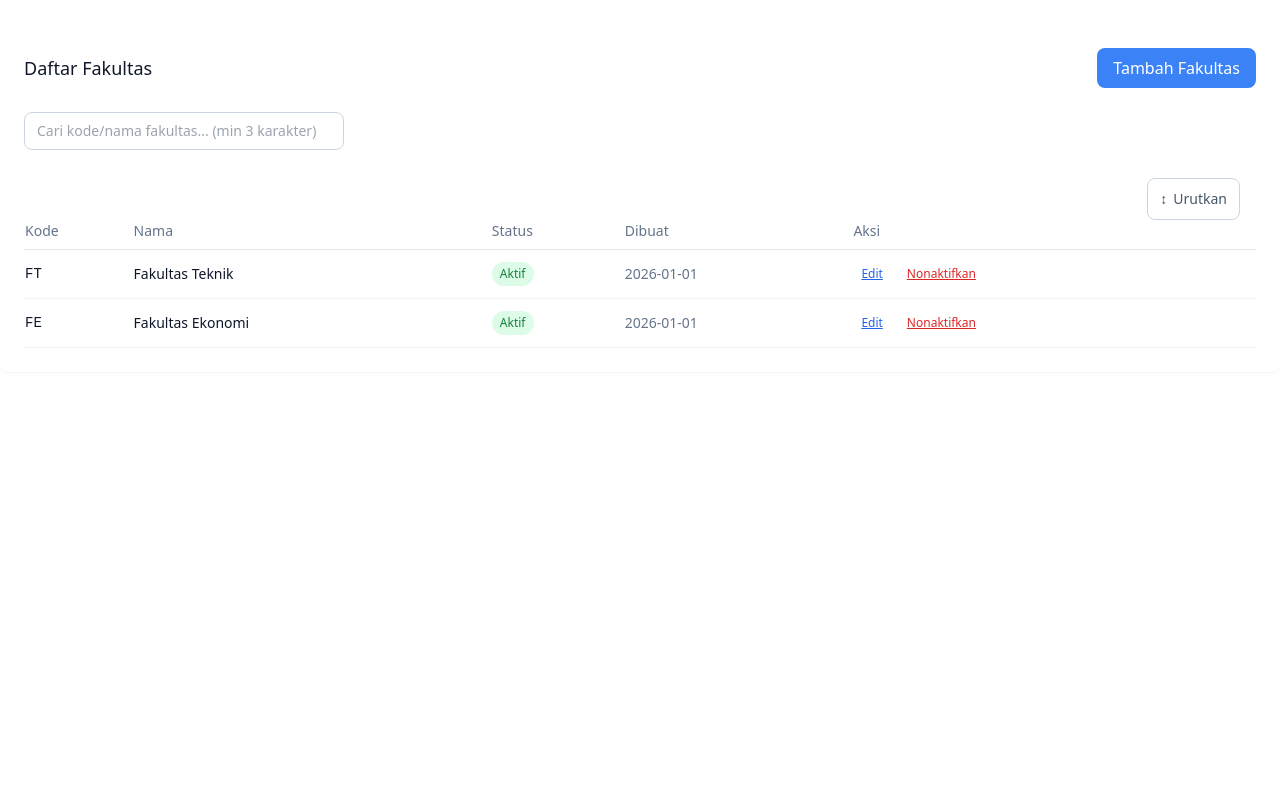
Scenario: AdminMasterPage (Fakultas & Prodi) › edit fakultas → updateFaculty dipanggil
The image size is (1280, 800).
Check: the text "Fakultas Teknik" is shown, box x1=133 y1=250 x2=491 y2=298
Klik Edit pada fakultas pertama
Click the button "Edit" in the row of "Fakultas Teknik".
click(872, 274)  # box x1=853 y1=262 x2=891 y2=286
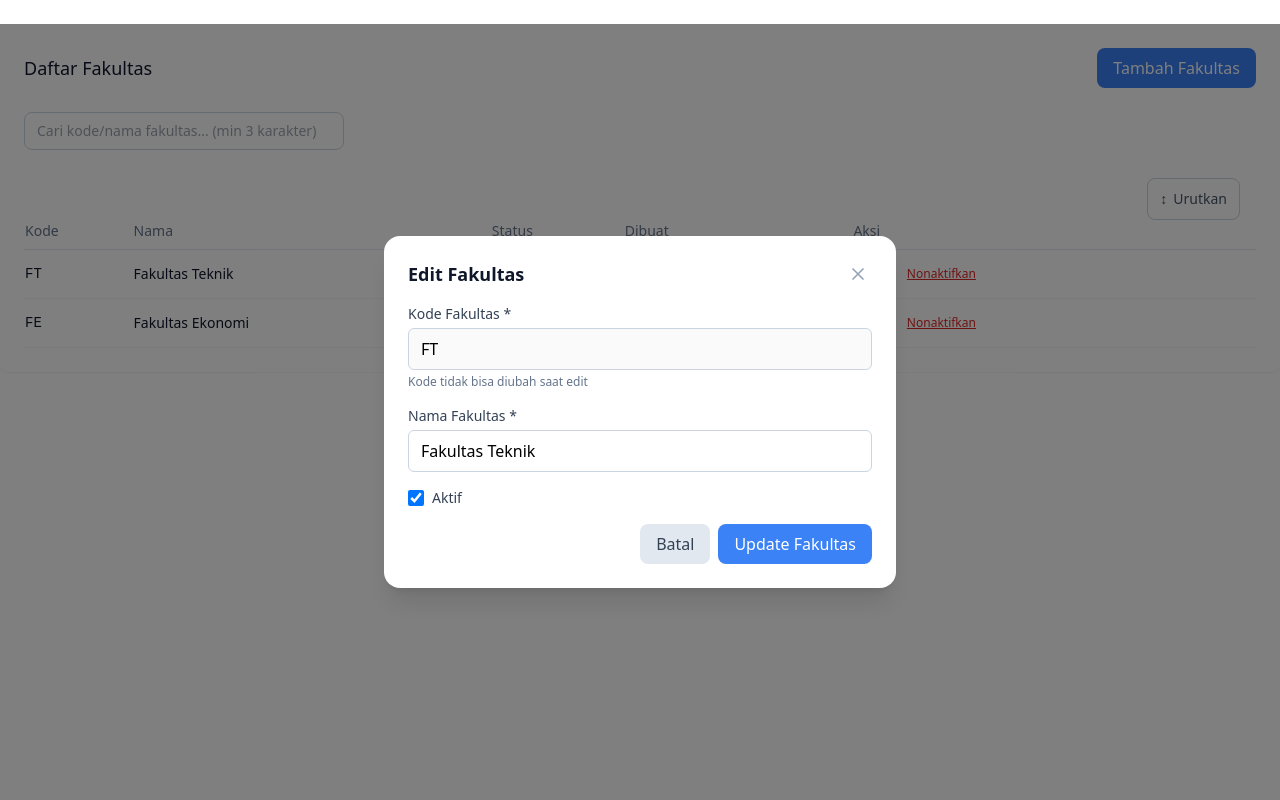
Check: the field showing "Fakultas Teknik" is shown
Ubah nama
Replace the text in the field labelled "Nama Fakultas *" with "Fakultas Teknik Baru" at (640, 451), box x1=408 y1=430 x2=872 y2=472
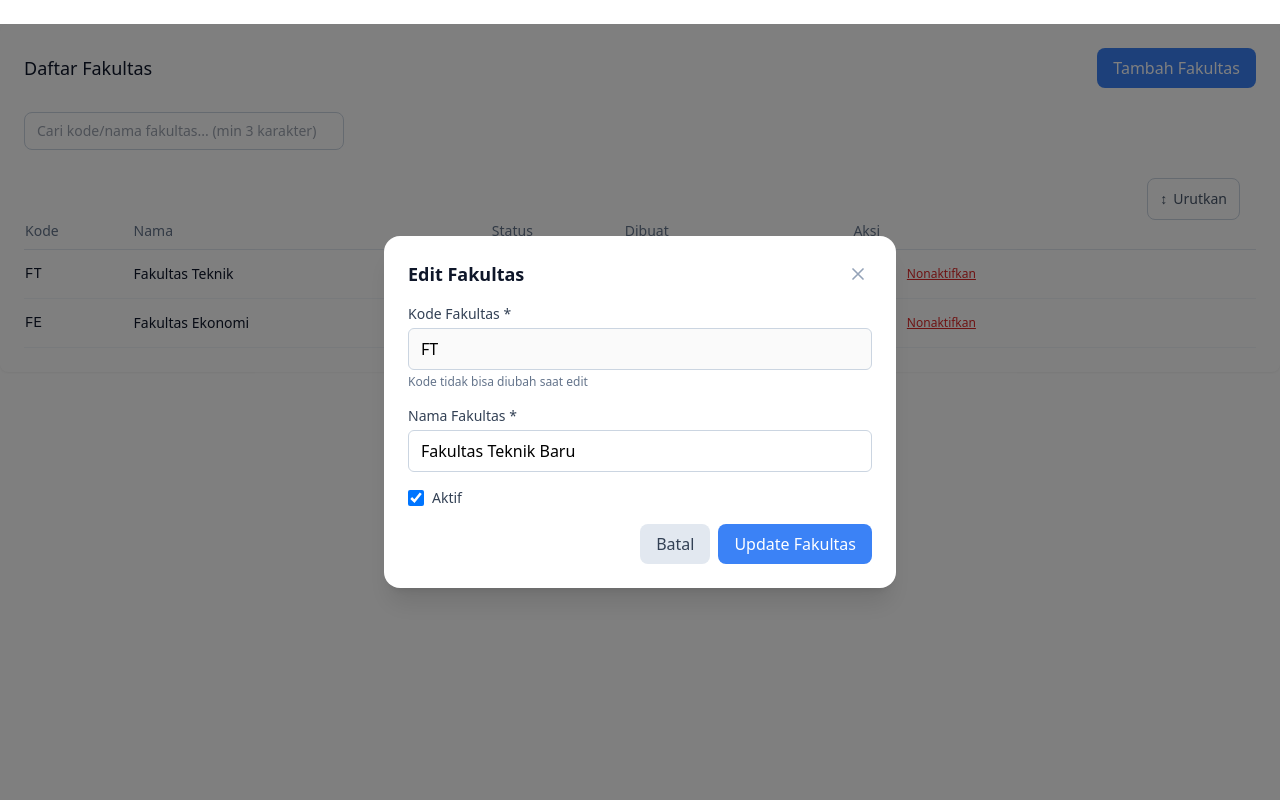
Click the button "Update Fakultas".
click(795, 544)  # box x1=718 y1=524 x2=872 y2=564
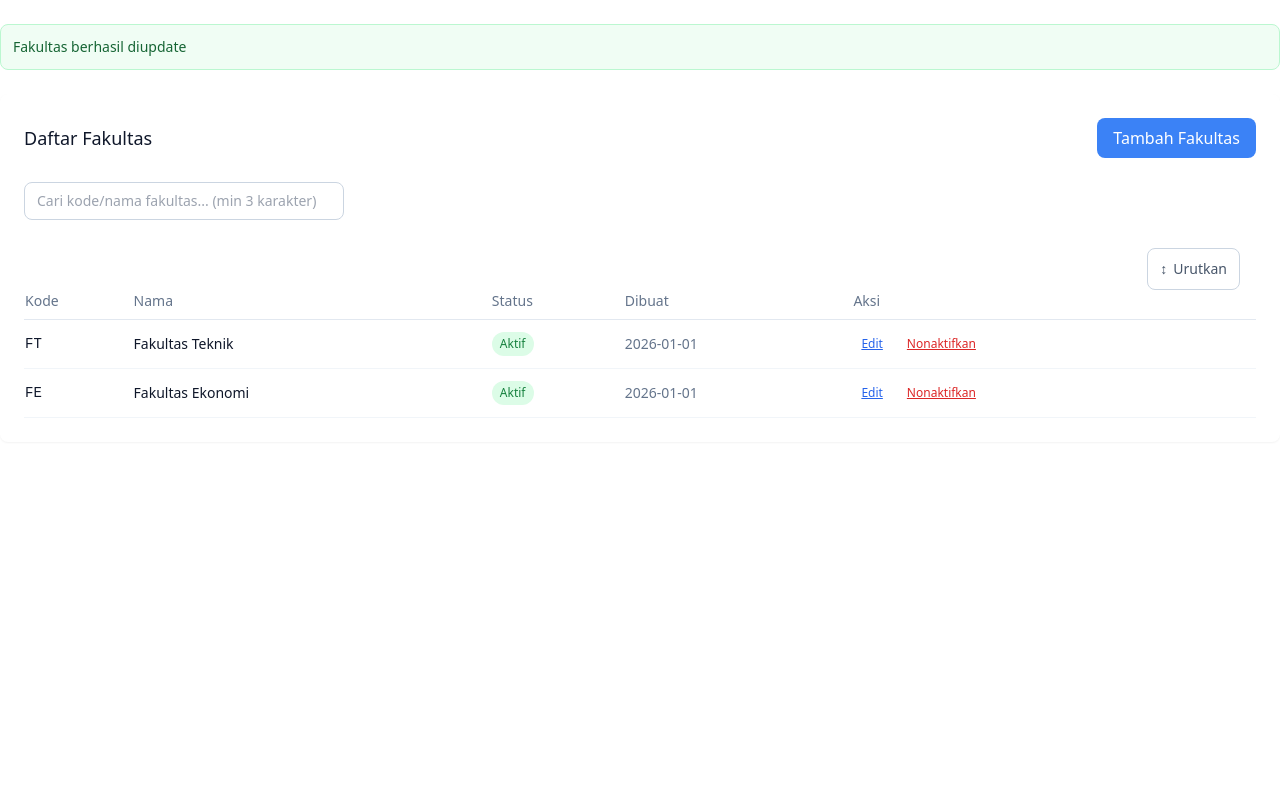
Check: the text "Fakultas berhasil diupdate" is shown, box x1=0 y1=24 x2=1279 y2=70
